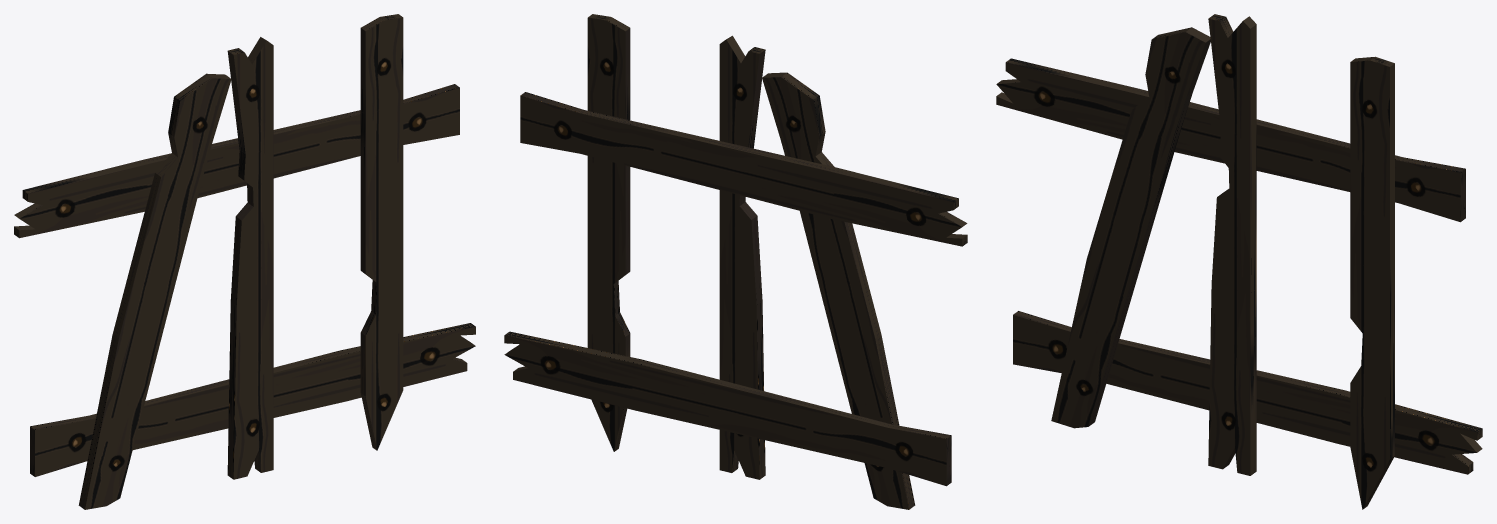
The model's file is HangRaoB.fbx.
The picture shows the model from 3 angles, left to right: view 1: azimuth 30°, elevation 25°; view 2: azimuth 150°, elevation 25°; view 3: azimuth 330°, elevation 25°; orthographic projection. The views are drawn at different scales.
Visible parts, largest first — view 1: HangRaoB; view 2: HangRaoB; view 3: HangRaoB.
Boxes of the visible parts, left/top/right/bottom form: HangRaoB: left=14, top=14, right=475, bottom=509; HangRaoB: left=504, top=14, right=967, bottom=509; HangRaoB: left=996, top=14, right=1482, bottom=509.
Size of the model in its own units: 1.58 by 0.0733 by 1.45.
1 material, 1 textured.
